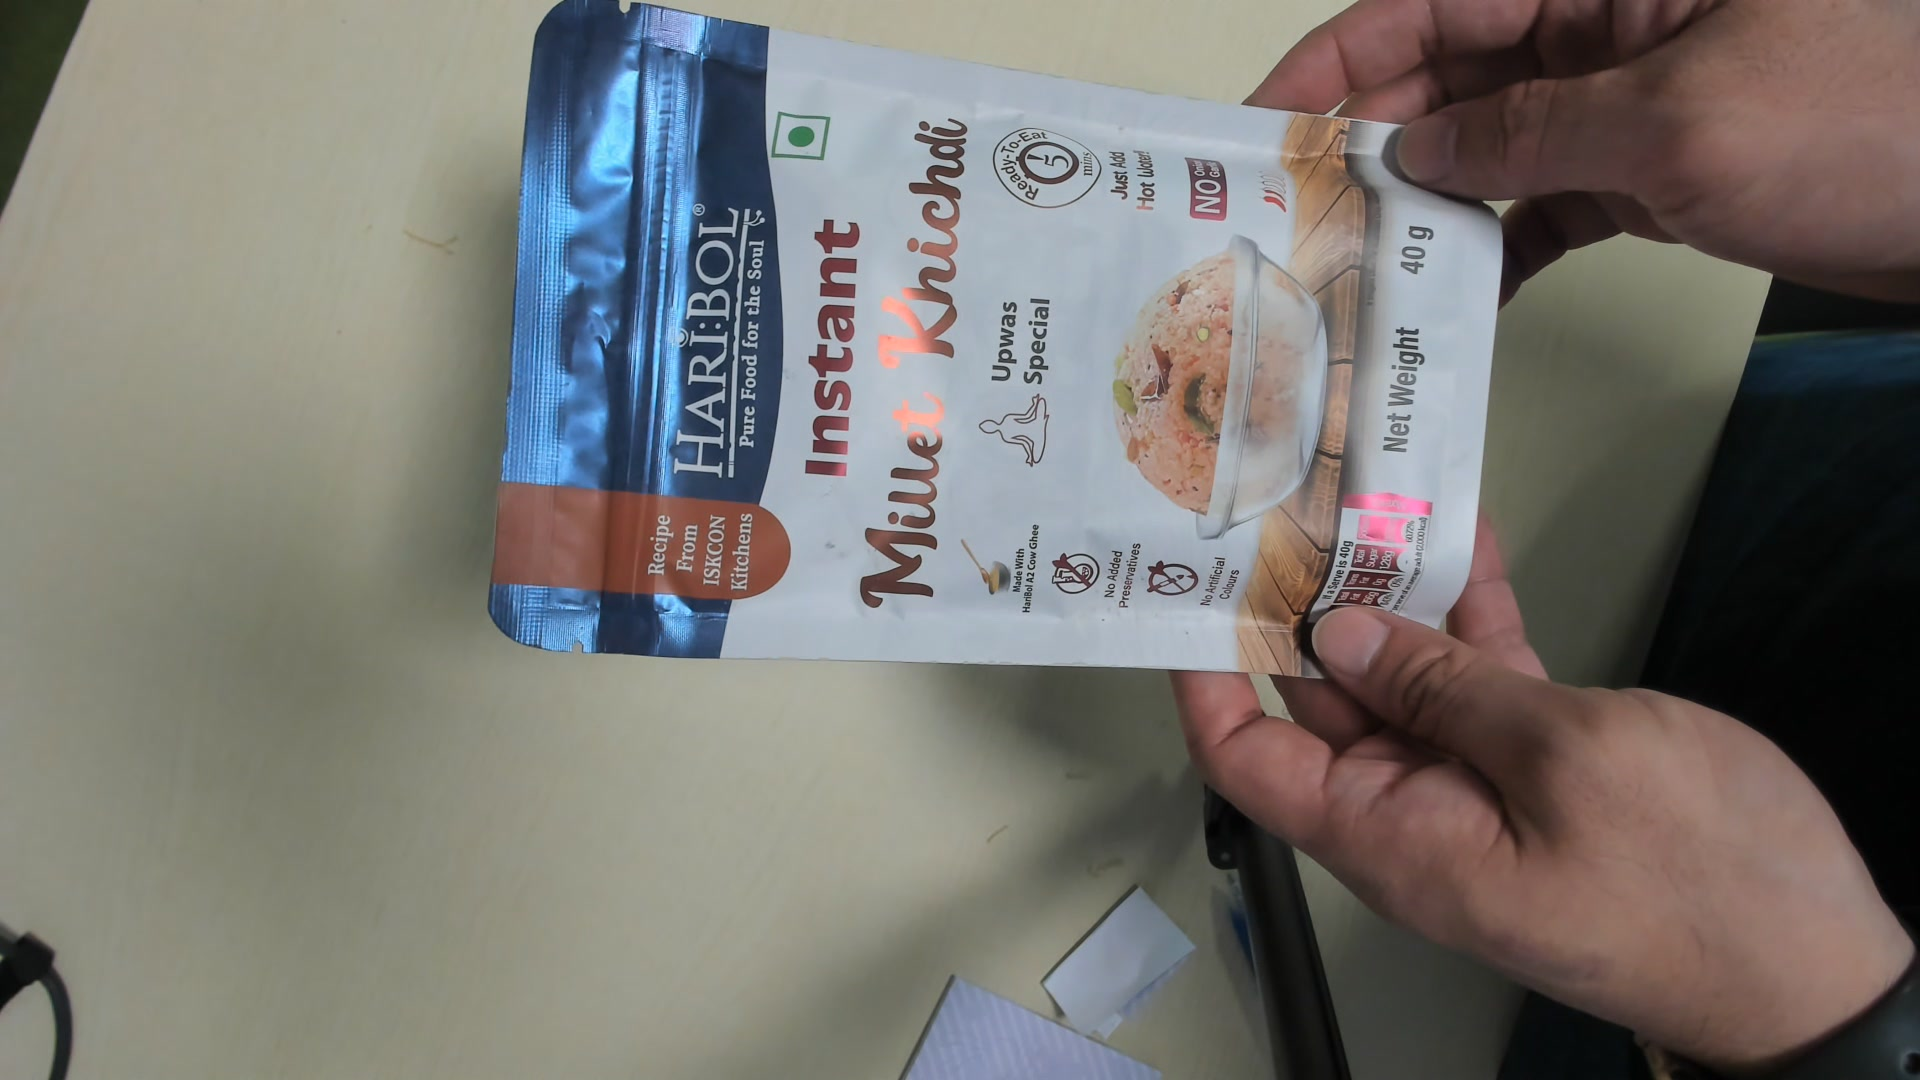InstantMeals_0-99g_NonHalal_NonHealthy: (489, 5, 1511, 682)
